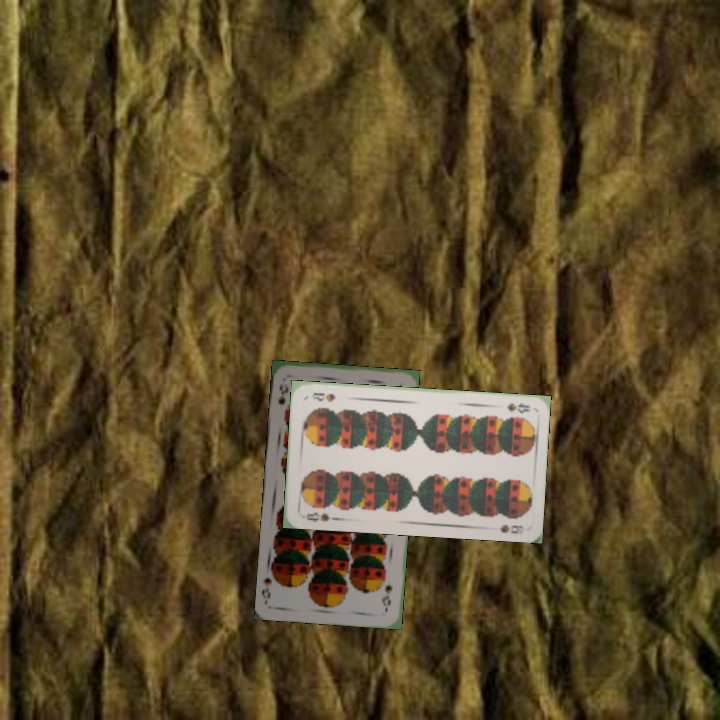S8: (298, 508, 332, 525), (503, 398, 532, 415)
S9: (274, 380, 292, 416), (379, 581, 395, 612)
